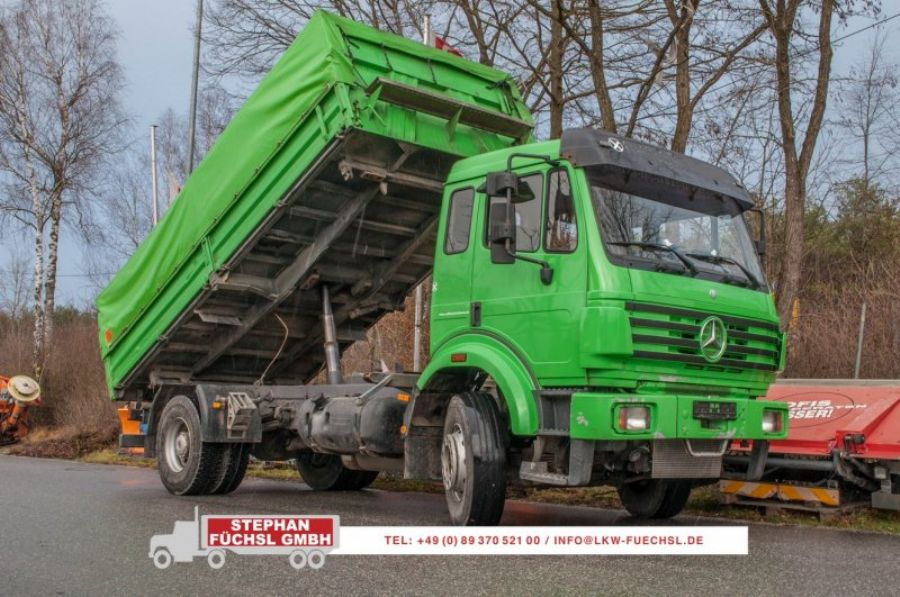truck: (100, 10, 778, 519)
